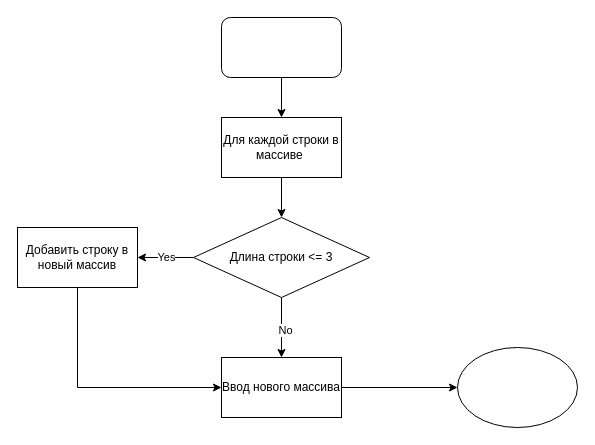
Image size: 595x445. Some labels were removed from this diagram. The box of each missing label's shape, as (x1, y1, x2, y2) in pixels:
Ввод массива строк: (220, 16, 342, 78)
Ожидание ввода: (456, 346, 578, 428)
